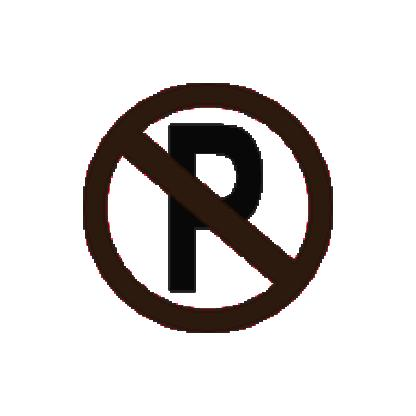No parking: (86, 77, 334, 333)
